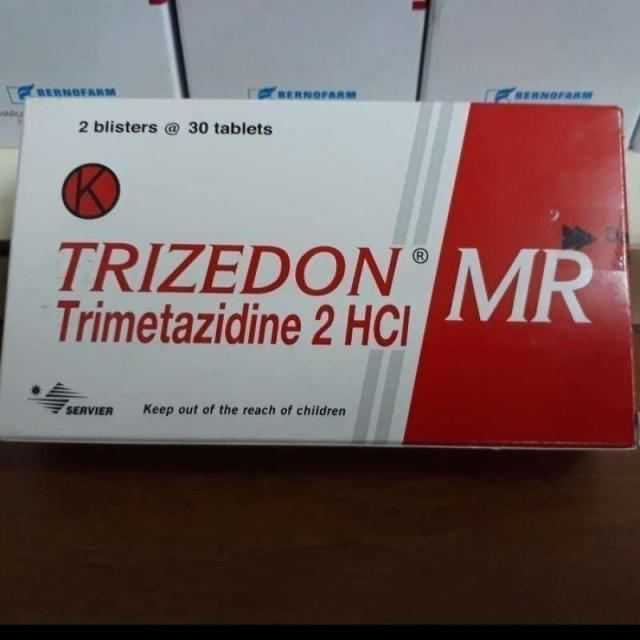drug-name: (56, 232, 403, 298)
